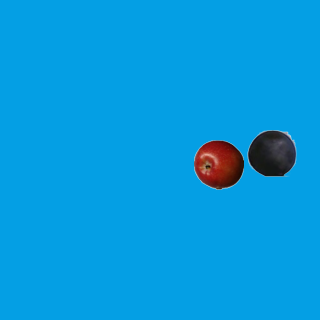Apple Braeburn: (193, 139, 243, 189)
Grape Blue: (246, 127, 296, 177)
